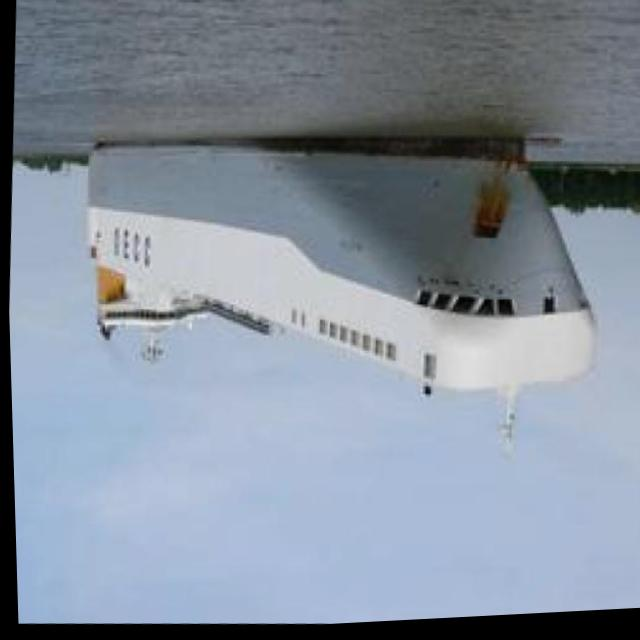ship2: (84, 136, 598, 466)
